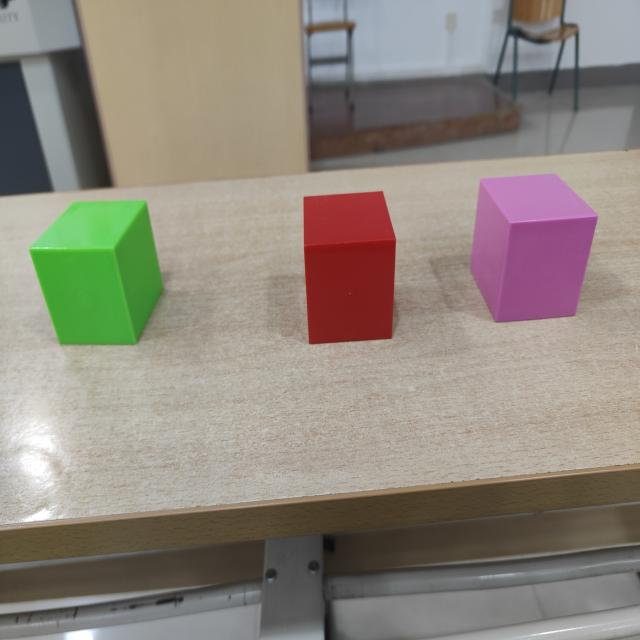green: (26, 199, 163, 349)
pink: (468, 175, 599, 325)
red: (303, 192, 396, 346)
